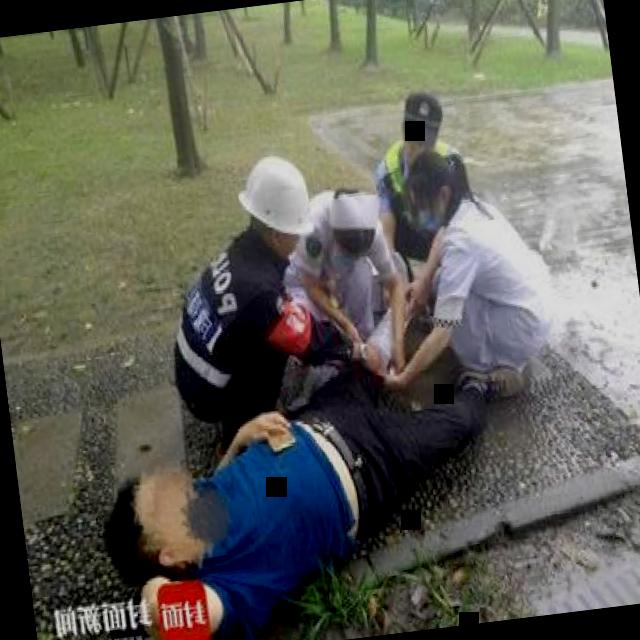Fall-Detected: (79, 319, 542, 640)
